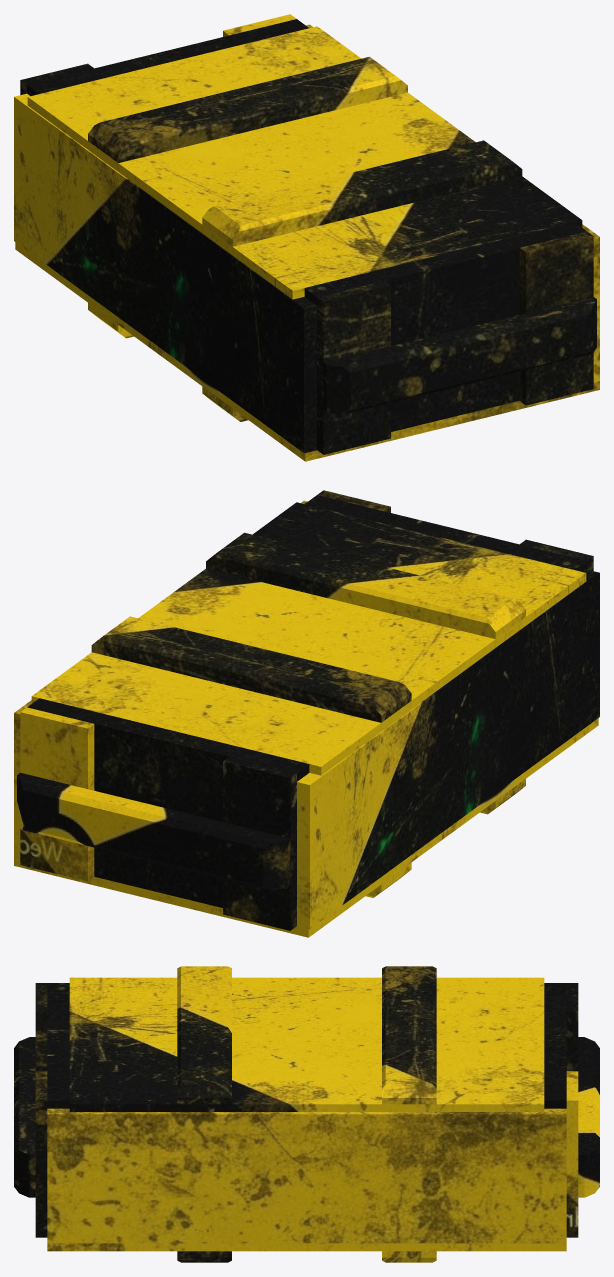
3 views of the same model, one above another, from view 1: azimuth 30°, elevation 25°; view 2: azimuth 150°, elevation 25°; view 3: azimuth 270°, elevation 25° (orthographic). The views are drawn at different scales.
Visible parts, largest first — view 1: cover_low, front_low, side_low, top_low, side_cover_low; view 2: cover_low, front_low, side_low, top_low, side_cover_low; view 3: front_low, cover_low, top_low, side_low, side_cover_low.
Part boxes in pixels (x1,y1,x2,y2): cover_low: (15,26,599,461); front_low: (14,24,599,453); side_low: (20,14,596,454); top_low: (88,56,522,421); side_cover_low: (27,19,586,431); cover_low: (14,502,598,937); front_low: (14,500,599,929); side_low: (17,490,593,930); top_low: (91,532,525,897); side_cover_low: (27,495,586,907); front_low: (47,1108,566,1243); cover_low: (47,977,566,1251); top_low: (177,966,436,1262); side_low: (14,983,599,1237); side_cover_low: (47,983,566,1108).
Size of the model in its own units: 376 by 239 by 720.
